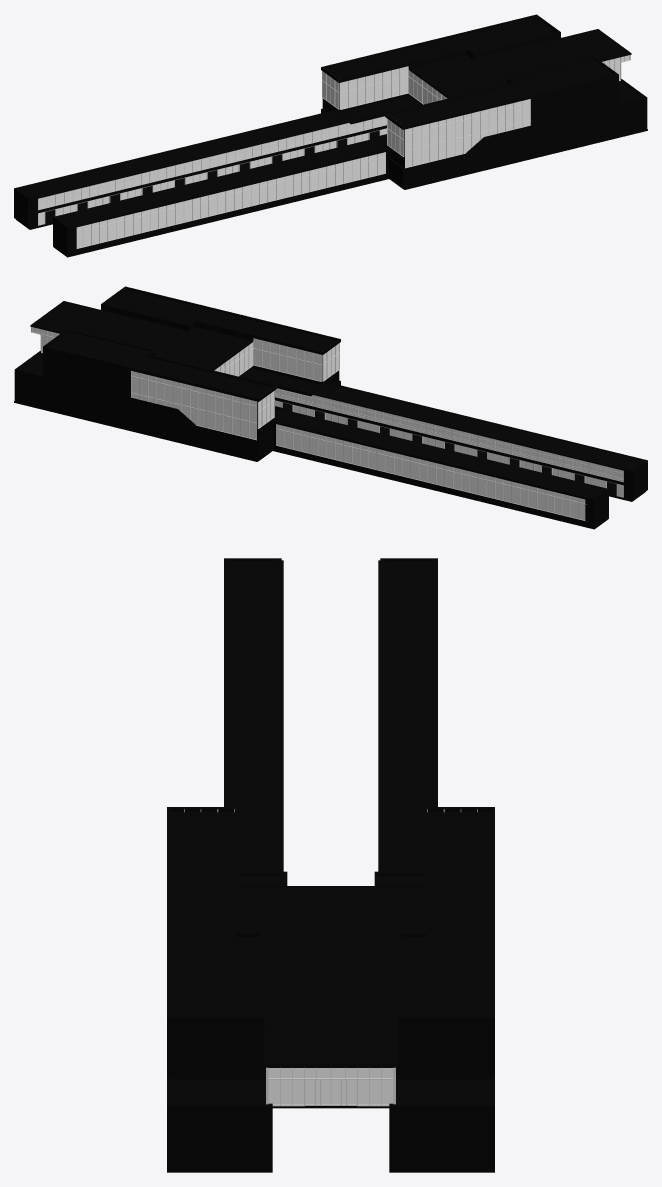
The model's file is REM.gltf.
3 views of the same model, one above another, from view 1: azimuth 30°, elevation 25°; view 2: azimuth 150°, elevation 25°; view 3: azimuth 270°, elevation 25° (orthographic). The views are drawn at different scales.
Visible parts, largest first — view 1: Ceilling.001, windows.001, BigWalls.001, Floor.001, SmallWals.001; view 2: Ceilling.001, windows.001, BigWalls.001, Floor.001, SmallWals.001; view 3: Ceilling.001, BigWalls.001, Floor.001, windows.001, SmallWals.001.
Part boxes in pixels (x1=…): Ceilling.001: x1=17, y1=17, x2=631, y2=228; windows.001: x1=38, y1=55, x2=630, y2=248; BigWalls.001: x1=14, y1=14, x2=647, y2=256; Floor.001: x1=16, y1=81, x2=647, y2=257; SmallWals.001: x1=322, y1=29, x2=629, y2=168; Ceilling.001: x1=30, y1=289, x2=644, y2=500; windows.001: x1=31, y1=327, x2=623, y2=521; BigWalls.001: x1=14, y1=286, x2=647, y2=528; Floor.001: x1=14, y1=353, x2=645, y2=529; SmallWals.001: x1=32, y1=301, x2=339, y2=440; Ceilling.001: x1=170, y1=560, x2=491, y2=1067; BigWalls.001: x1=167, y1=558, x2=494, y2=1169; Floor.001: x1=167, y1=1078, x2=494, y2=1172; windows.001: x1=184, y1=809, x2=477, y2=1106; SmallWals.001: x1=239, y1=886, x2=422, y2=1078.
Bounding box in the file's own units: 107 × 11.25 × 26.41.
8 materials, 4 textured.
